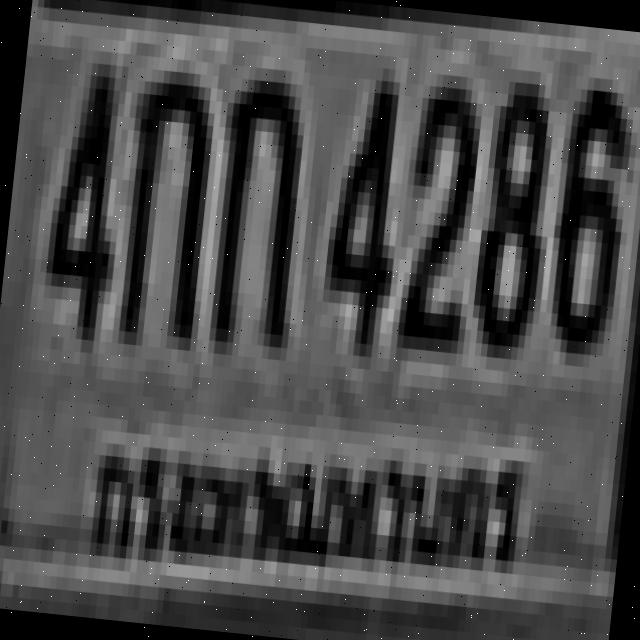10GorGai: (202, 65, 310, 348), (112, 55, 214, 338)
2: (391, 72, 479, 340)
4: (318, 64, 407, 346), (37, 53, 126, 334)
6: (542, 75, 630, 344)
8: (463, 66, 552, 348)
Bangkok: (62, 394, 553, 616)
